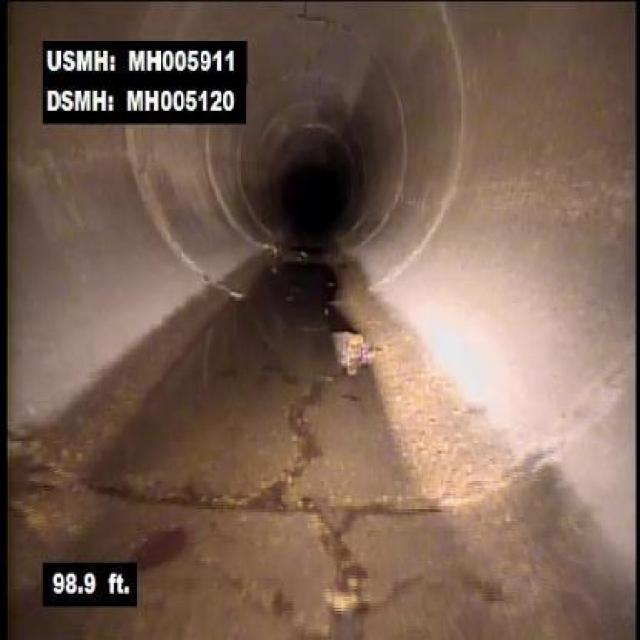Crack: (254, 383, 332, 503), (306, 517, 383, 638)
